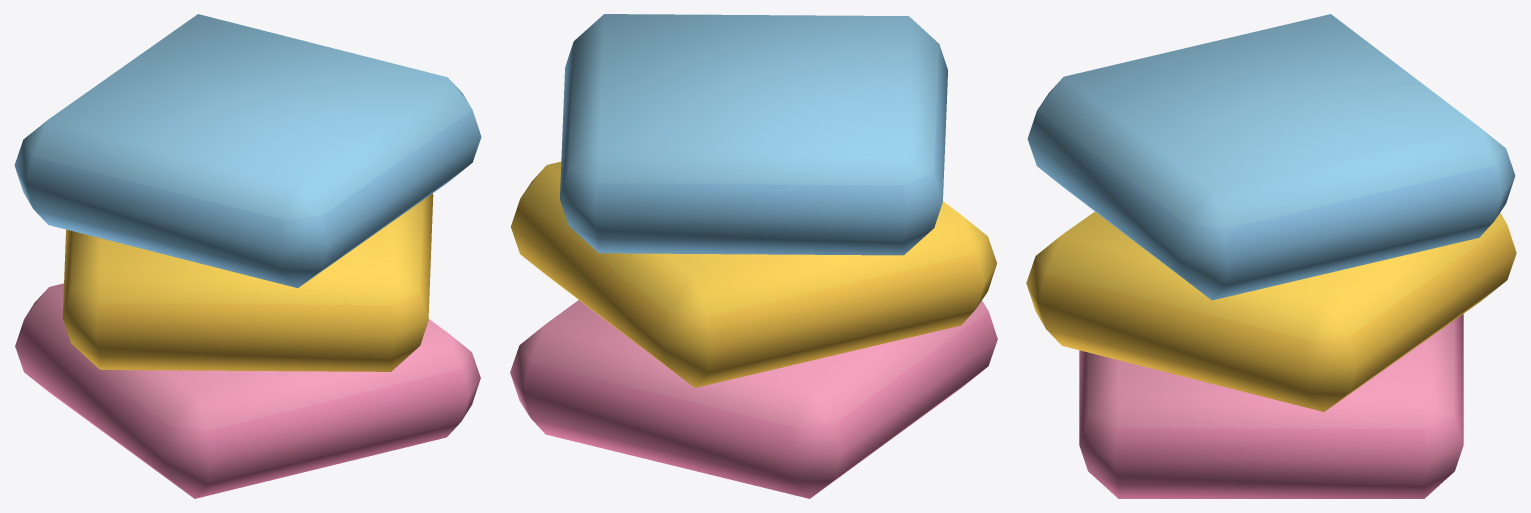
Rendered from towel-stacked.glb.
3 renders of one model, left to right at view 1: azimuth 30°, elevation 25°; view 2: azimuth 150°, elevation 25°; view 3: azimuth 270°, elevation 25°, orthographic. The views are drawn at different scales.
Visible parts, largest first — view 1: towel_stacked; view 2: towel_stacked; view 3: towel_stacked.
Part boxes in pixels (box(x1,y1,x2,y2)): towel_stacked: box(14, 14, 481, 498); towel_stacked: box(510, 14, 997, 498); towel_stacked: box(1026, 14, 1516, 498).
Size of the model in its own units: 0.802 by 0.6 by 0.802.
Materials: 1 (1 with a texture image).
